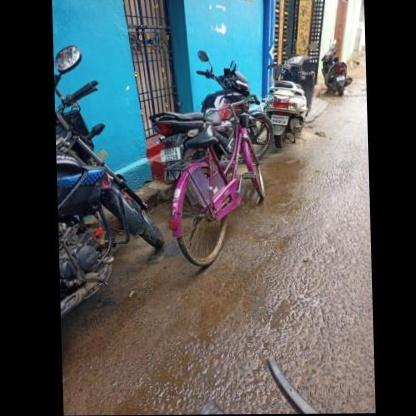Bicycle: (148, 86, 282, 280)
